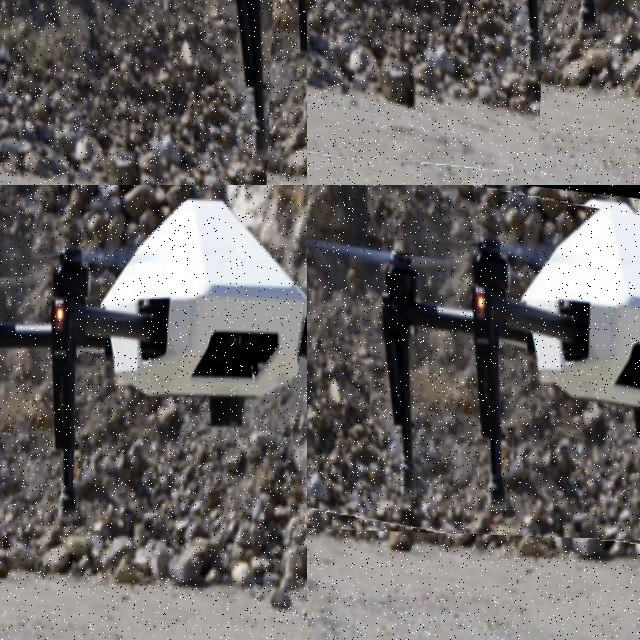drone: (307, 185, 640, 542), (0, 0, 282, 185), (307, 0, 556, 166)
